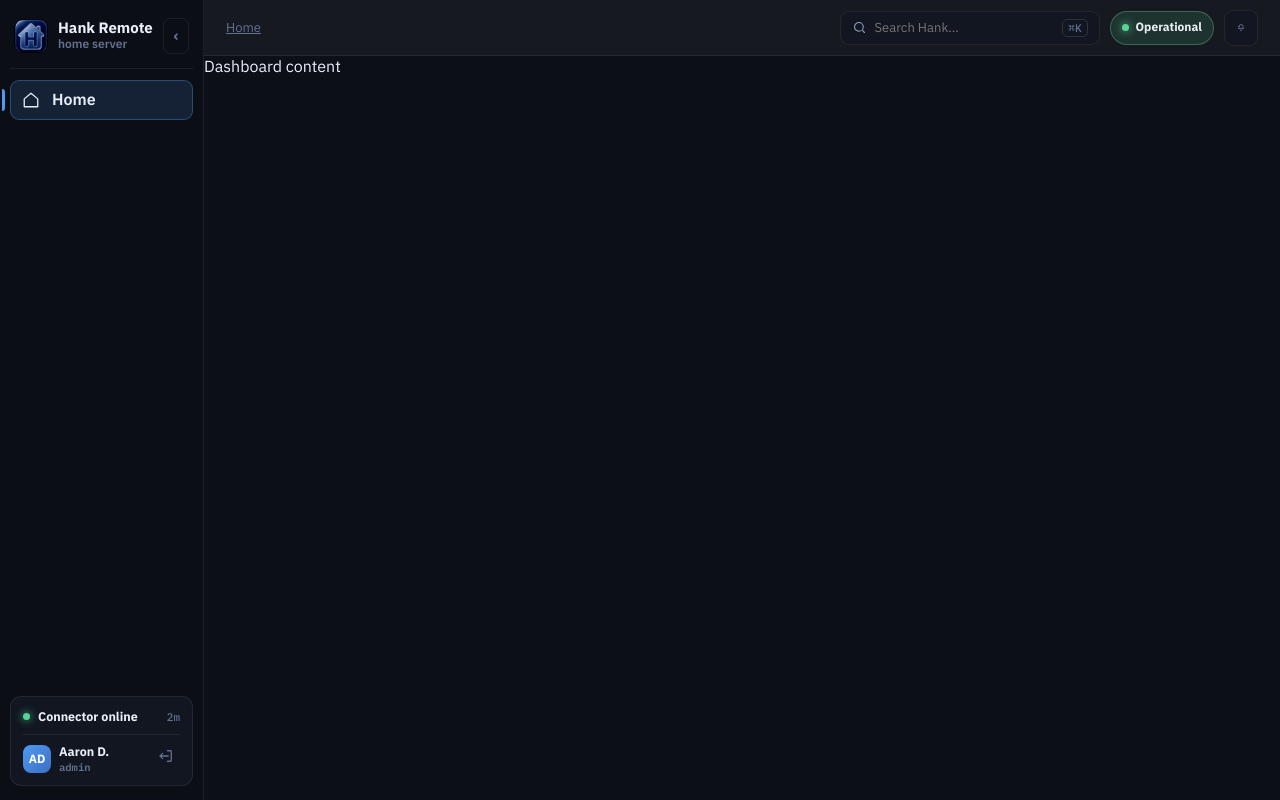
Scenario: Shell › loads and renders notification feed items
This screenshot has width=1280, height=800.
Click the button named "Notifications".
click(1241, 28)  # box [1224,10,1258,46]
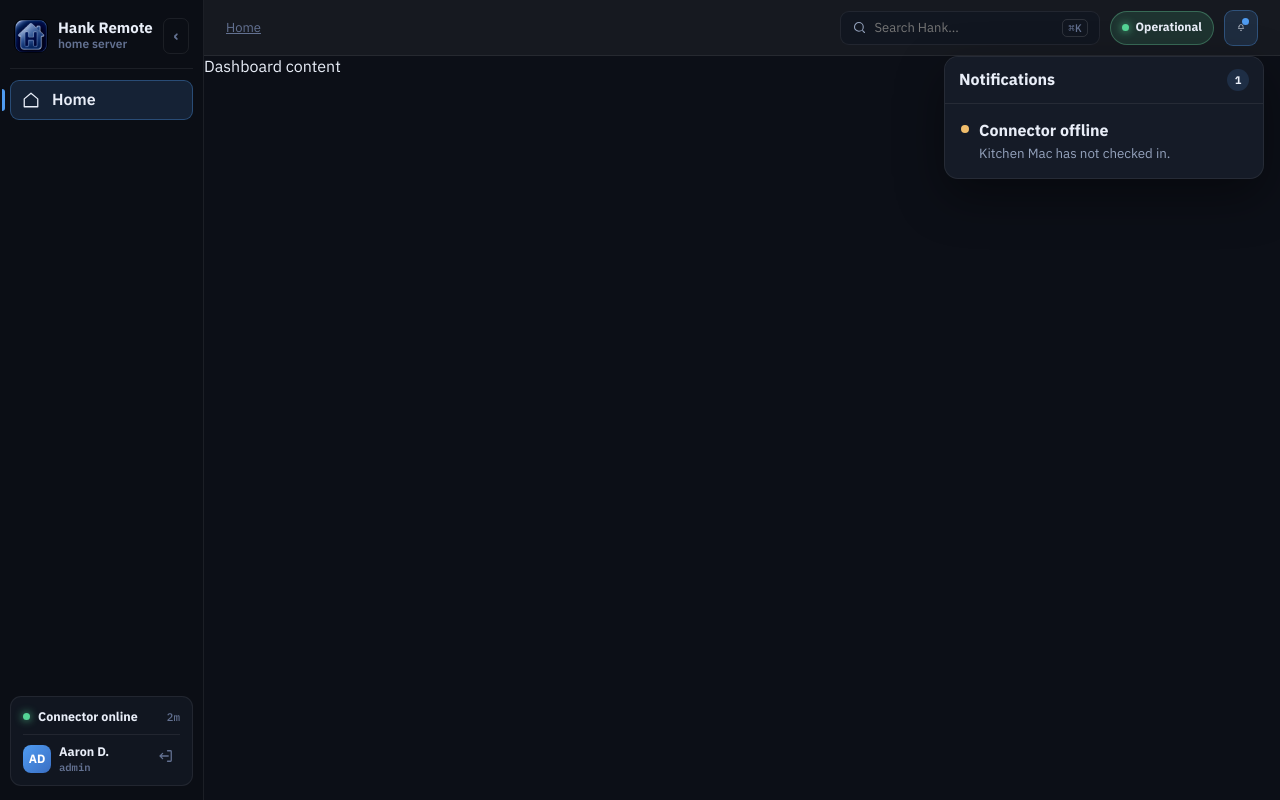
Expected: the dialog "Notifications" is shown, [944,56,1264,179]
Expected: the text "Connector offline" is shown, [979,120,1109,140]
Expected: the text "Kitchen Mac has not checked in." is shown, [979,144,1170,162]
